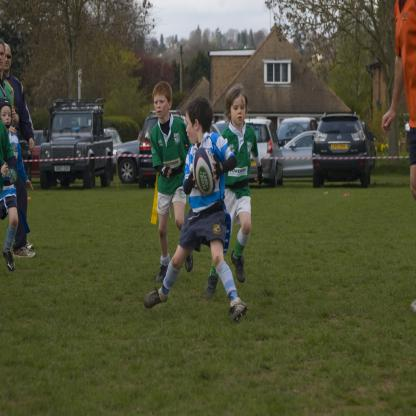Ball: (195, 144, 219, 197)
